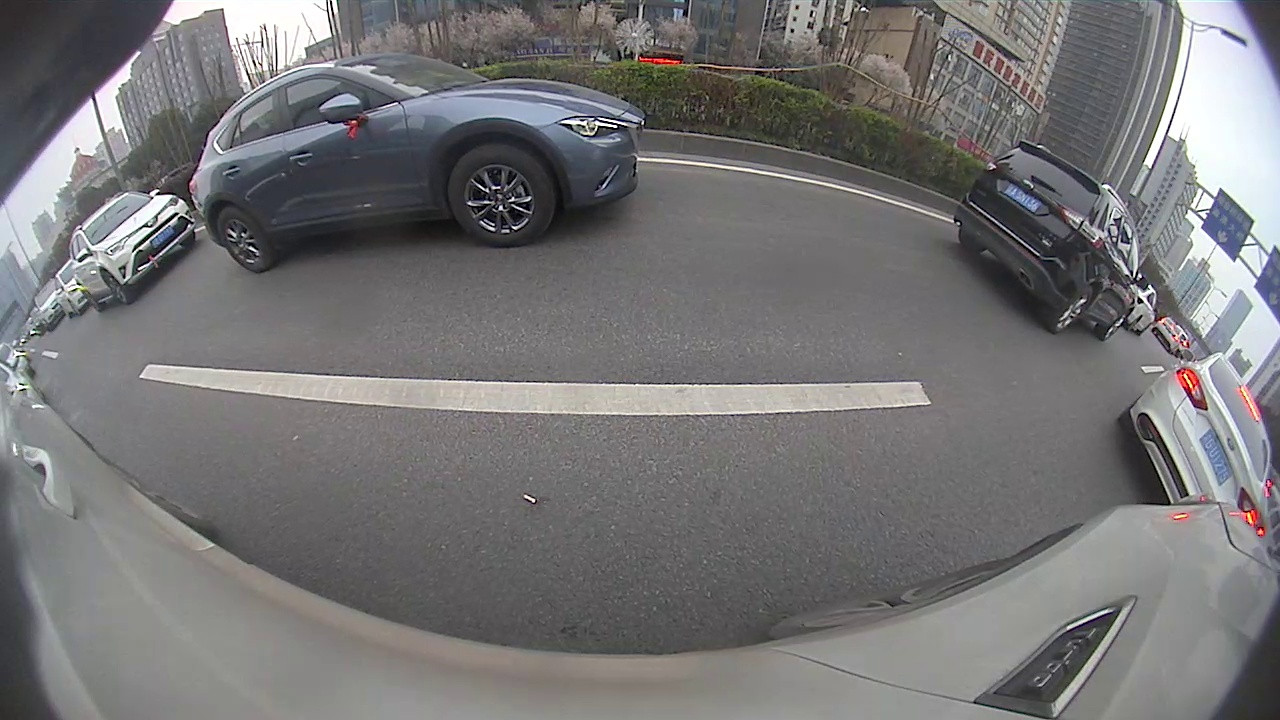car: (191, 51, 647, 274), (954, 140, 1149, 341), (1117, 352, 1269, 531), (69, 189, 196, 312)
front: (451, 148, 557, 246), (99, 272, 130, 307), (1101, 310, 1133, 338)
rear: (216, 203, 269, 272), (1051, 284, 1098, 334)
